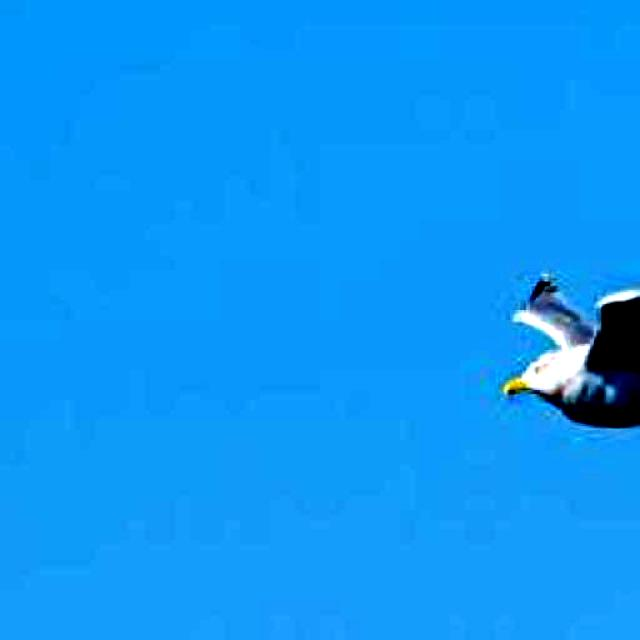airplane: (502, 251, 640, 429)
